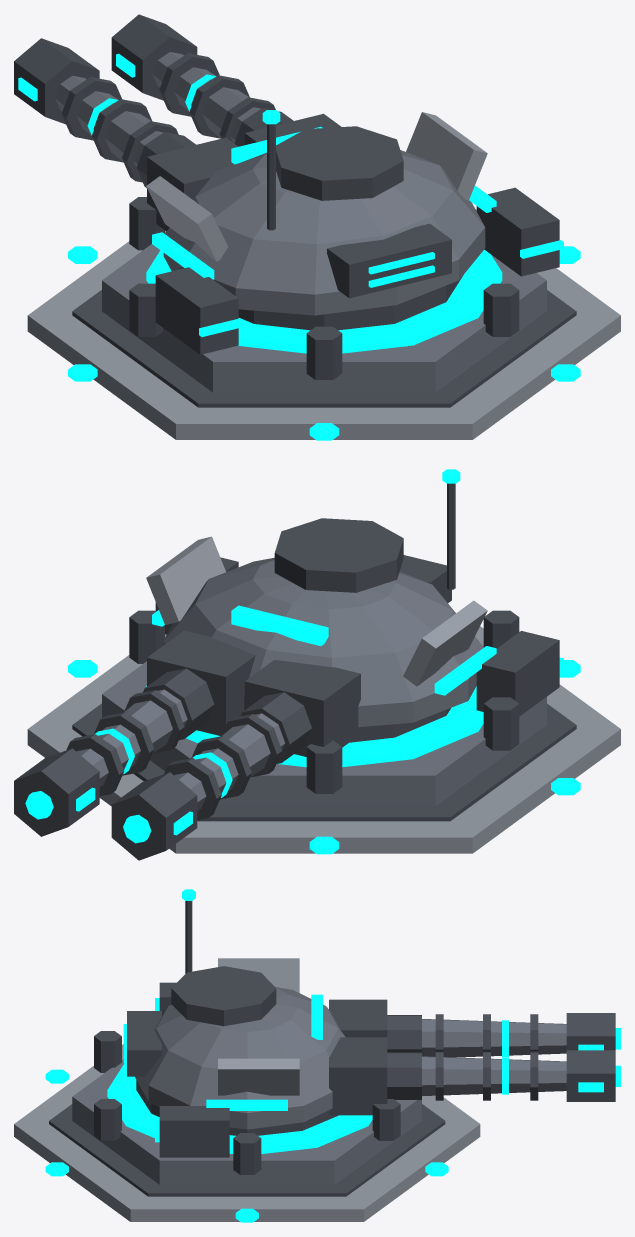
File: turret_lvl4.fbx
The picture shows the model from 3 angles, top to bottom: view 1: azimuth 30°, elevation 25°; view 2: azimuth 150°, elevation 25°; view 3: azimuth 270°, elevation 25°; orthographic projection. The views are drawn at different scales.
Parts seen in each view (by area): view 1: Dome_05, BaseTier_50, Base_01, BaseSkirt_02, Cupola_49, Neon_BaseRing_03, BackVent_32, SaddleBag_45, SaddleBag_47, MuzzleBrake_25, MuzzleBrake_14, Pivot_04 (+21 smaller); view 2: Dome_05, BaseTier_50, Base_01, BaseSkirt_02, Cupola_49, BarrelMount_07, BarrelMount_18, SaddleBag_45, MuzzleBrake_14, MuzzleBrake_25, Neon_BaseRing_03, ArmorPlate_36 (+22 smaller); view 3: BaseTier_50, Dome_05, Base_01, BaseSkirt_02, Cupola_49, BarrelMount_18, BarrelTube_20, BarrelTube_09, Neon_BaseRing_03, SaddleBag_47, ArmorPlate_36, MuzzleBrake_25 (+14 smaller).
Boxes of the visible parts, box(x1,y1,x2,y2) form: Dome_05: box(163, 150, 485, 315); BaseTier_50: box(27, 209, 620, 439); Base_01: box(102, 244, 546, 392); BaseSkirt_02: box(72, 290, 576, 407); Cupola_49: box(276, 126, 403, 200); Neon_BaseRing_03: box(146, 249, 502, 353); BackVent_32: box(327, 223, 451, 298); SaddleBag_45: box(155, 267, 238, 354); SaddleBag_47: box(476, 187, 559, 276); MuzzleBrake_25: box(111, 14, 197, 100); MuzzleBrake_14: box(14, 38, 99, 124); Pivot_04: box(238, 275, 463, 330); Dome_05: box(163, 557, 483, 727); BaseTier_50: box(27, 626, 620, 853); Base_01: box(102, 661, 546, 806); BaseSkirt_02: box(72, 703, 576, 821); Cupola_49: box(274, 518, 403, 592); BarrelMount_07: box(244, 660, 360, 756); BarrelMount_18: box(147, 630, 255, 735); SaddleBag_45: box(476, 631, 559, 716); MuzzleBrake_14: box(111, 772, 197, 860); MuzzleBrake_25: box(14, 748, 99, 836); Neon_BaseRing_03: box(146, 685, 483, 767); ArmorPlate_36: box(146, 536, 225, 624); BaseTier_50: box(14, 1044, 480, 1221); Dome_05: box(135, 987, 345, 1129); Base_01: box(72, 1059, 421, 1184); BaseSkirt_02: box(49, 1104, 445, 1196); Cupola_49: box(171, 966, 276, 1026); BarrelMount_18: box(329, 1037, 387, 1115); BarrelTube_20: box(422, 1056, 566, 1096); BarrelTube_09: box(422, 1019, 566, 1057); Neon_BaseRing_03: box(107, 1063, 372, 1153); SaddleBag_47: box(159, 1106, 229, 1157); ArmorPlate_36: box(218, 1058, 299, 1095); MuzzleBrake_25: box(566, 1050, 615, 1101).
Bounding box in the file's own units: 492 × 249 × 651.
